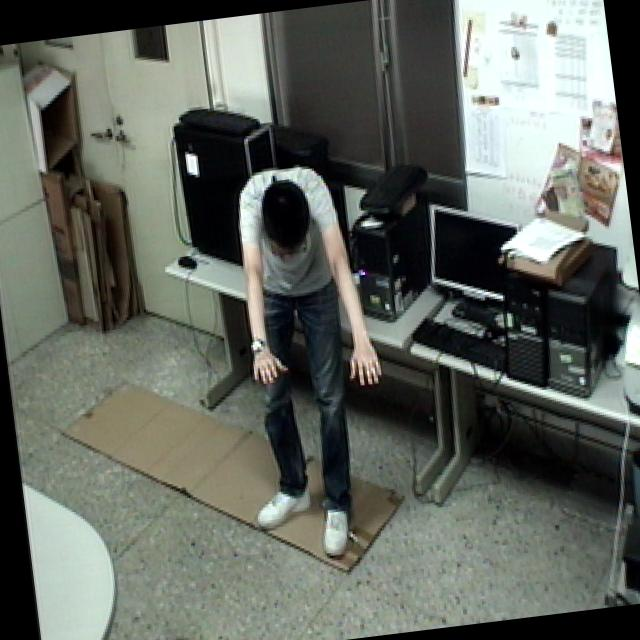bend: (202, 145, 404, 580)
